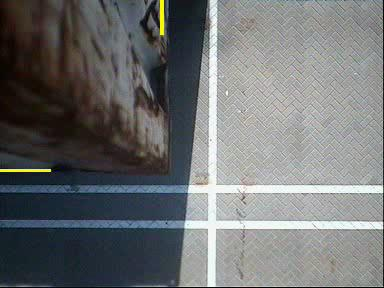groundmarker_2: (195, 160, 236, 217)
